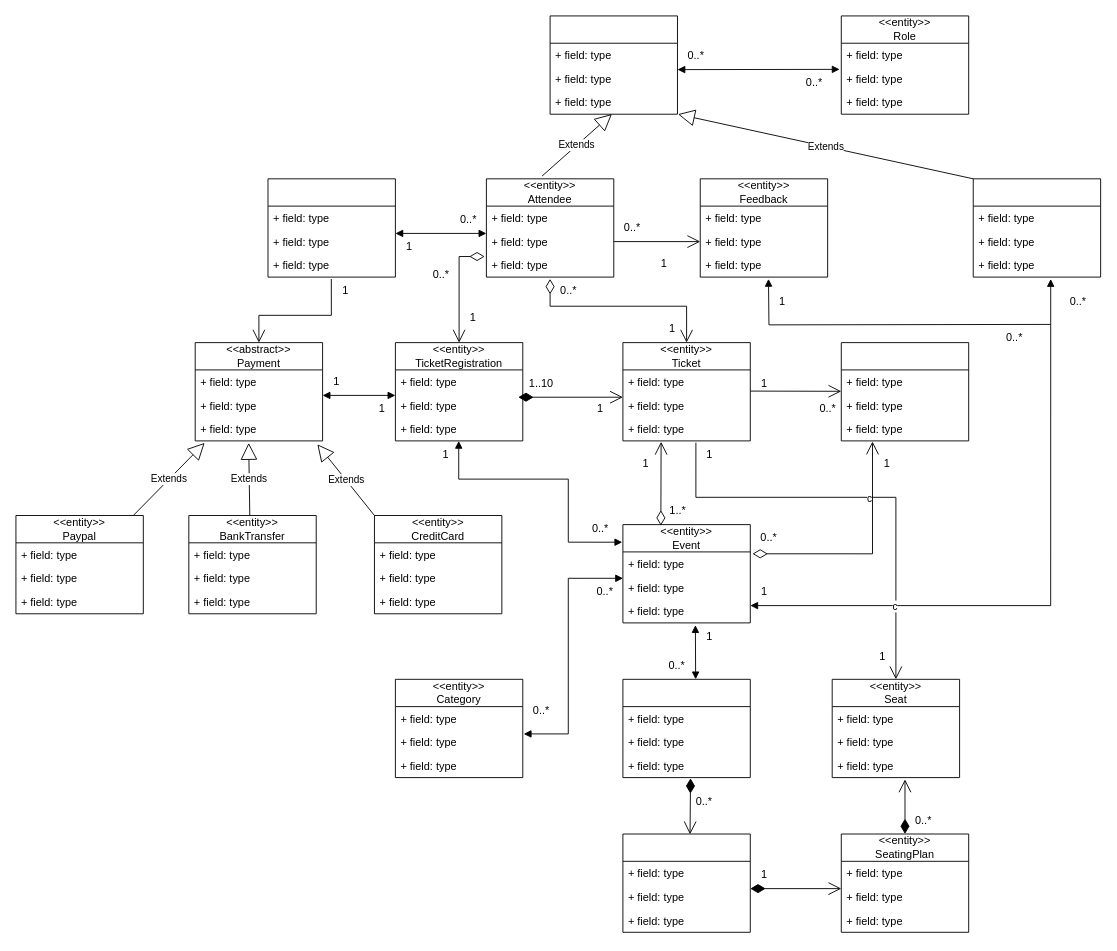
Image size: 1117x951. Some labels were removed from this diagram. The box of each missing label's shape, as (x1, y1, x2, y2) in pixels:
<<abstact>> User: (549, 15, 677, 114)
<<entity>> Organizer: (972, 178, 1101, 277)
<<entity>> Refund: (267, 178, 395, 277)
<<entity>> Room: (622, 833, 750, 932)
<<entity>> TicketType: (840, 342, 969, 441)
<<entity>> Venue: (622, 678, 750, 778)
